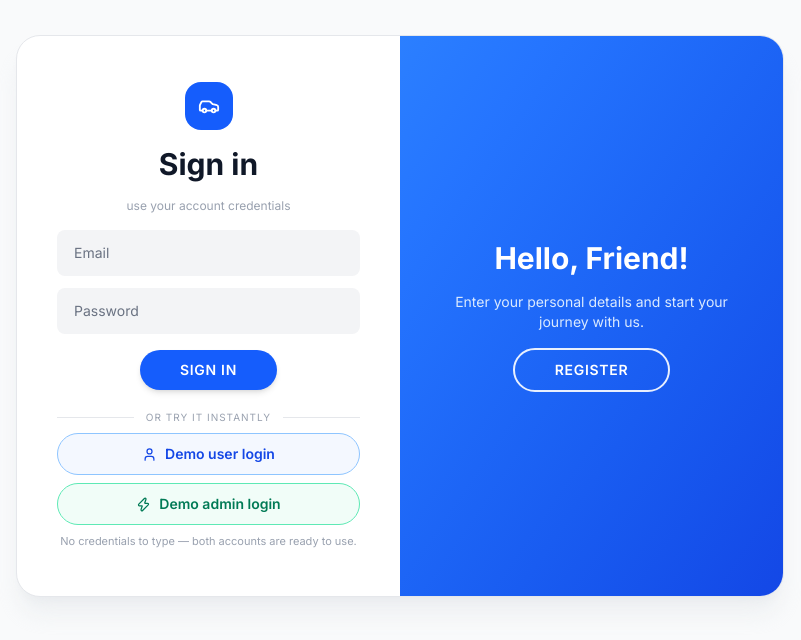
Test: LoginPage › fills the visible fields so the demo credentials are not a mystery
Click the button "Demo admin login" at {"x": 208, "y": 504}, box [57, 483, 360, 525]
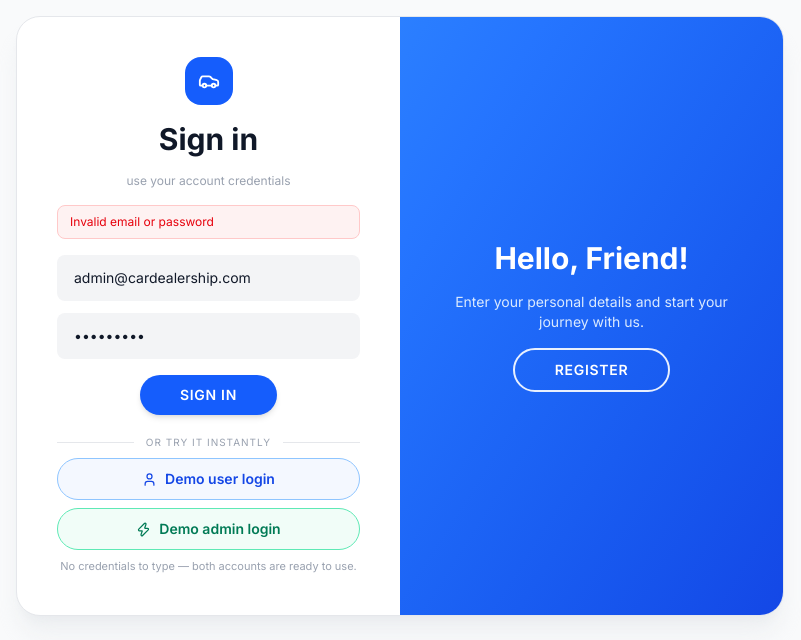
Result: the field named "Email" holds "admin@cardealership.com" at [57, 255, 360, 301]
